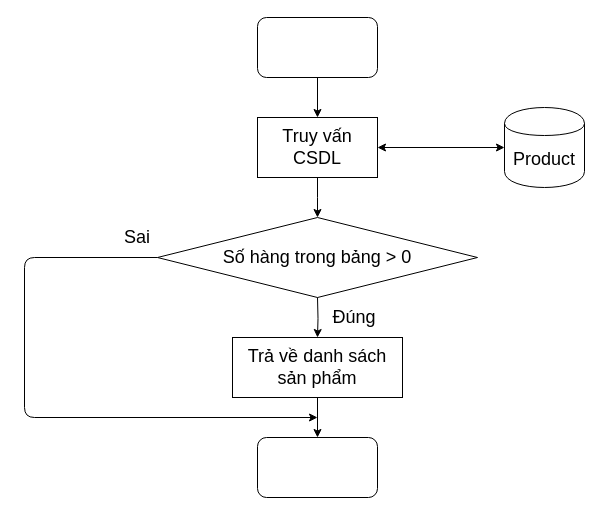
This 602x515 diagram has some shape labels left out. Each missing label, with the box of its shape:
Bắt đầu: (256, 16, 378, 78)
Kết thúc: (256, 436, 378, 498)
